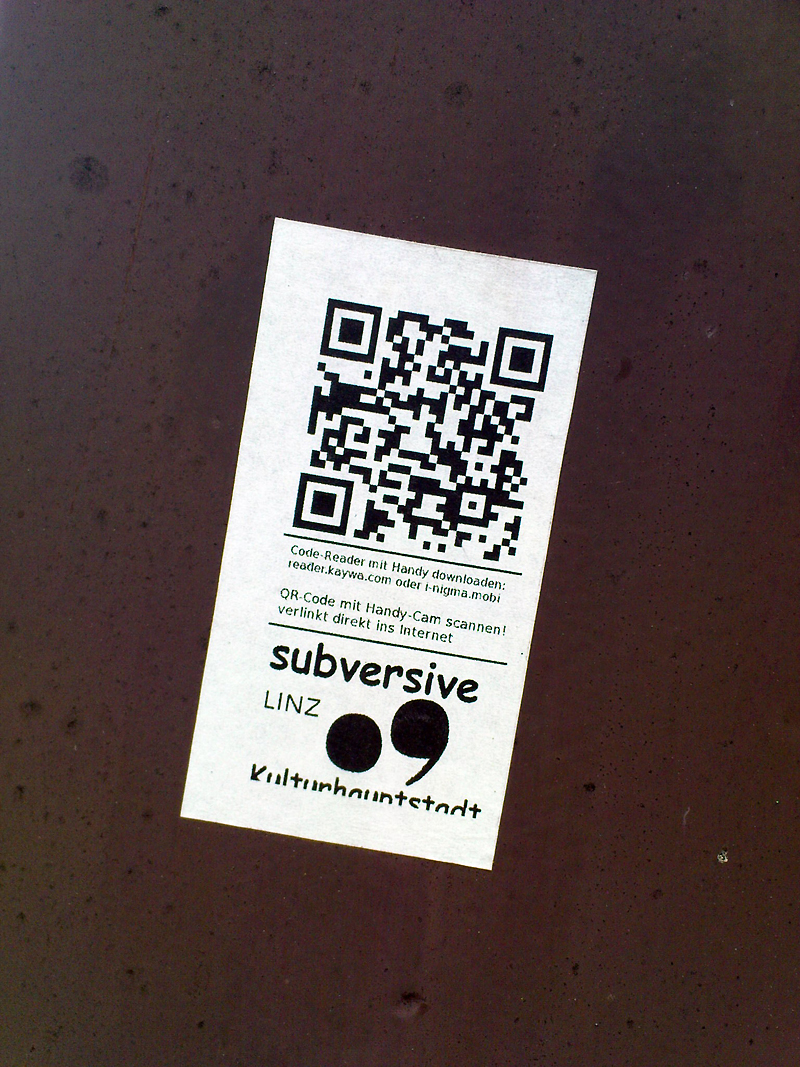QR-CODE: (292, 298, 553, 564)
